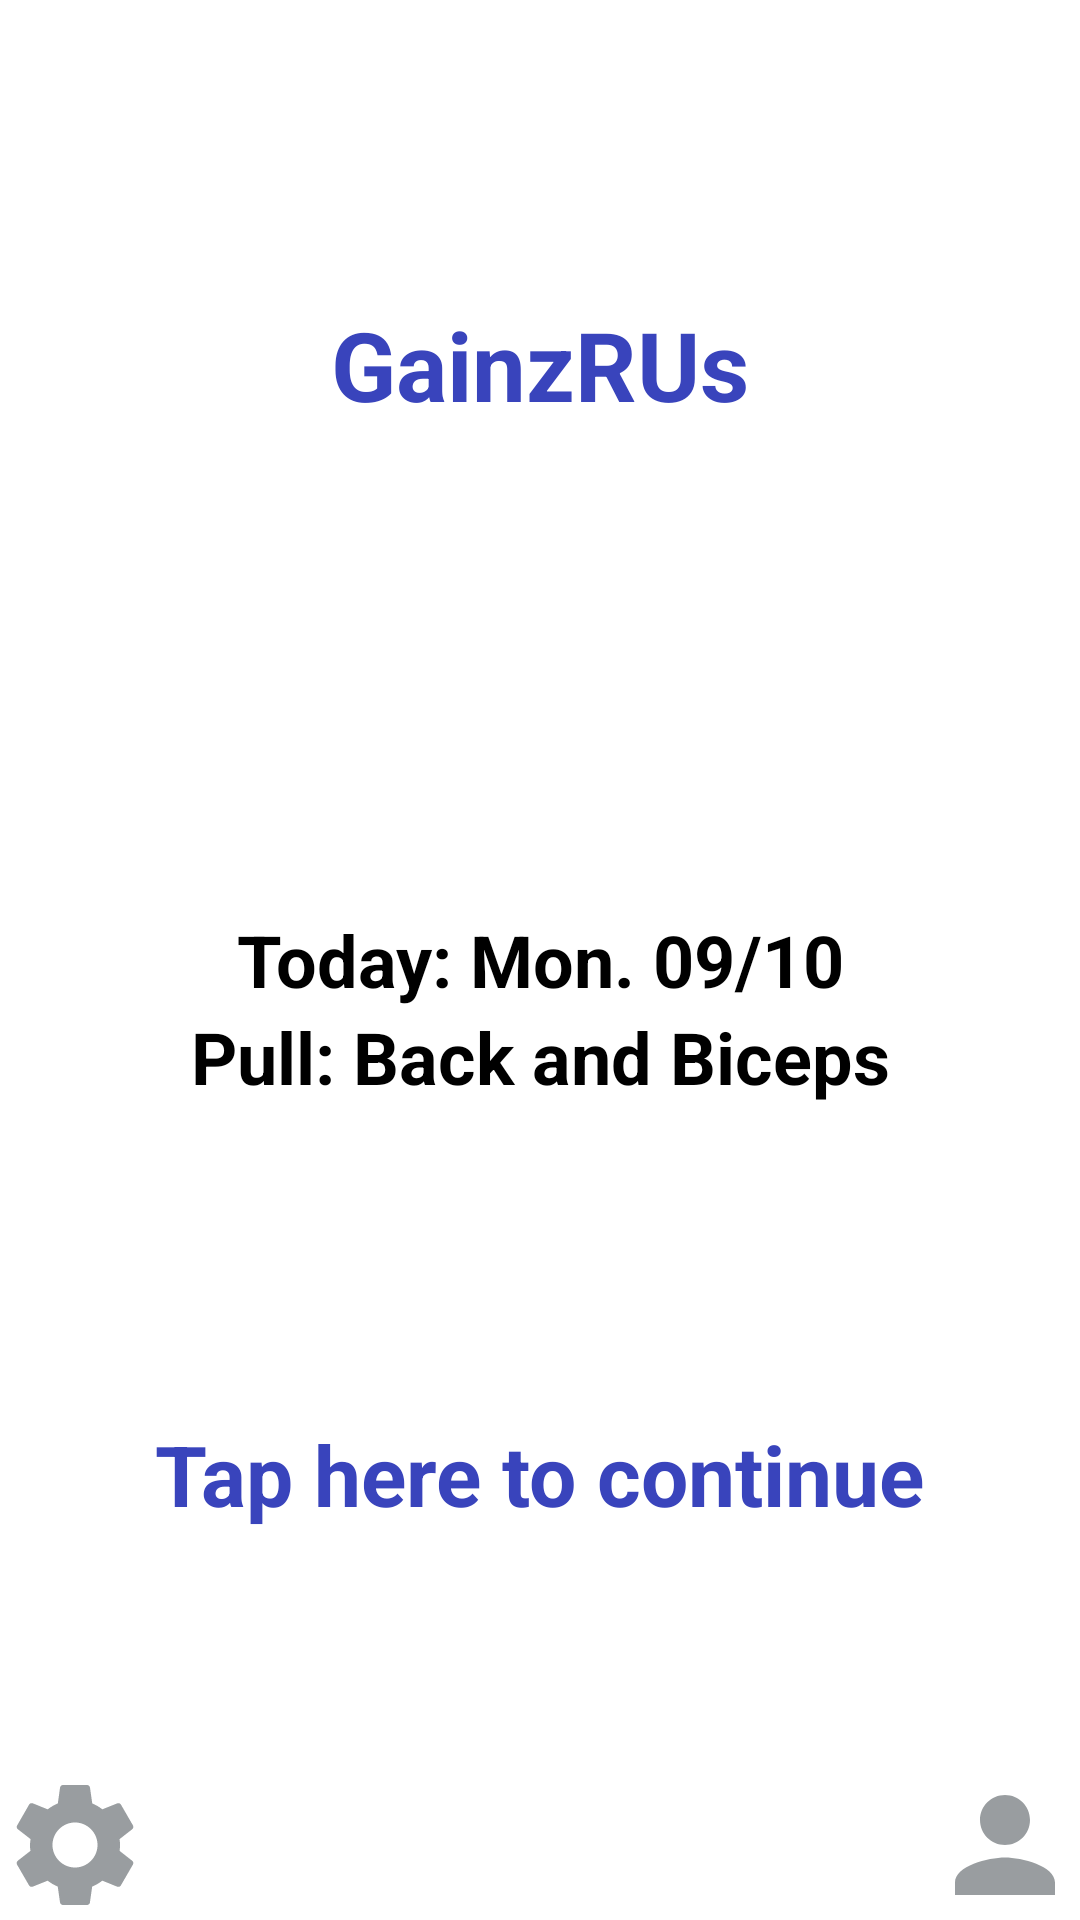

Screen size 1080px×1920px. Icon name, then its box in pixels as bbox=[x1, y1, x2, y2]:
homepage settings: bbox=[16, 1785, 134, 1905]
homepage user: bbox=[955, 1795, 1055, 1895]
